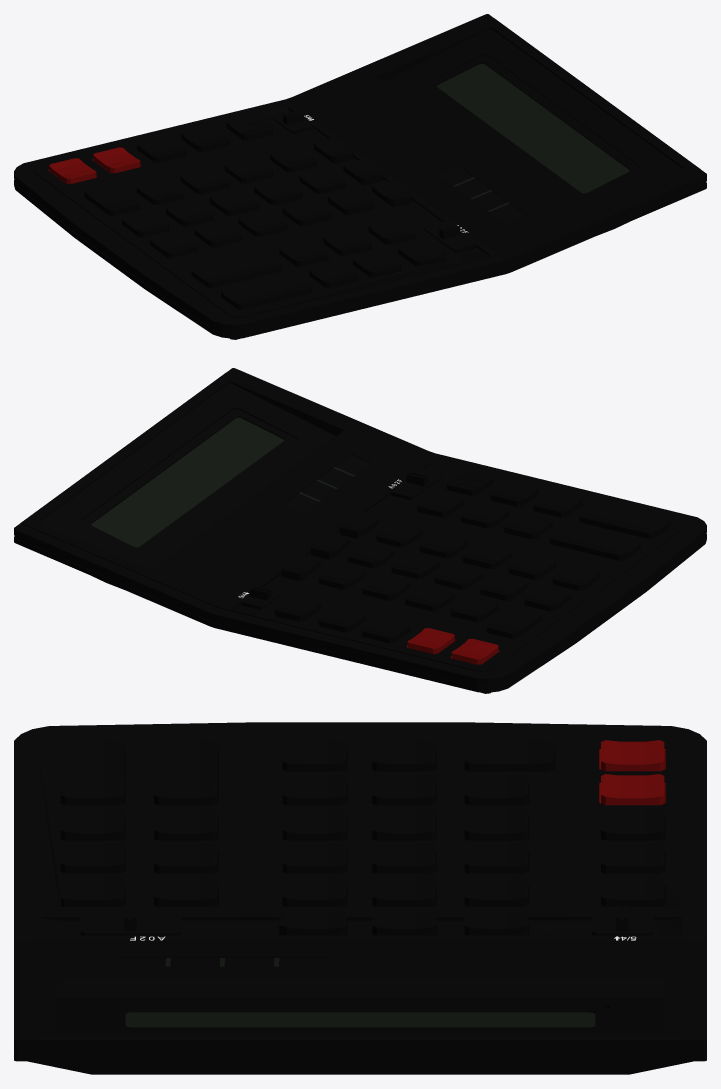
The model's file is calculator.FBX.
3 renders of one model, top to bottom at view 1: azimuth 30°, elevation 25°; view 2: azimuth 150°, elevation 25°; view 3: azimuth 270°, elevation 25°, orthographic. The views are drawn at different scales.
Parts seen in each view (by area): view 1: RenderStuf; view 2: RenderStuf; view 3: RenderStuf.
Part boxes in pixels (x1,y1,x2,y2): RenderStuf: (14, 14, 706, 339); RenderStuf: (14, 368, 706, 693); RenderStuf: (14, 722, 706, 1074).
Size of the model in its own units: 1.86 by 0.212 by 1.46.
